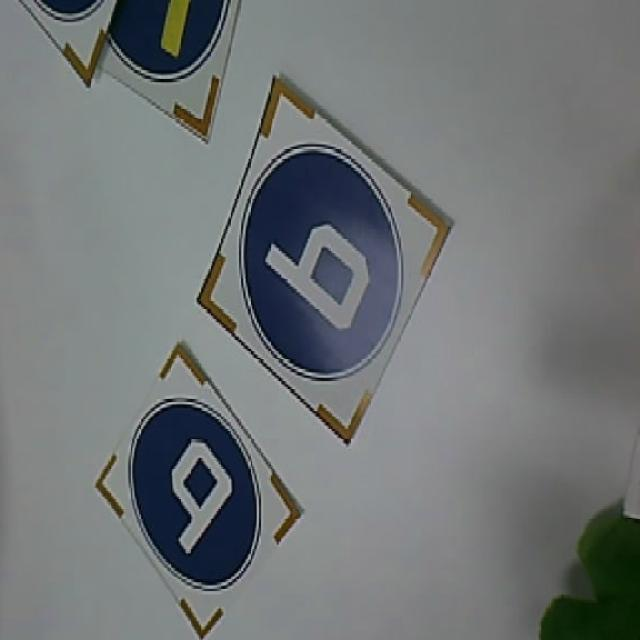parking: (197, 83, 450, 442), (105, 342, 302, 639)
